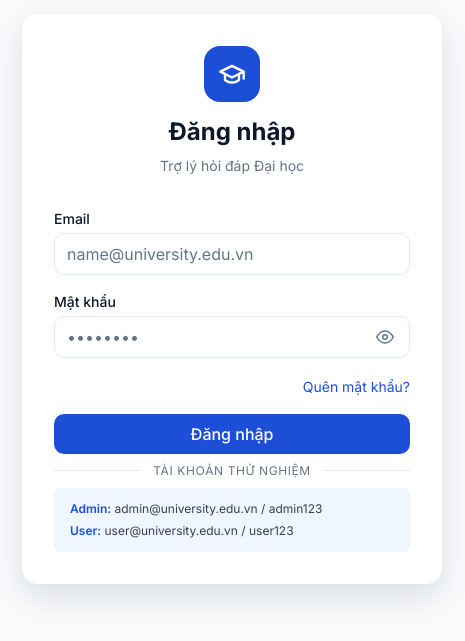
Test case: LoginForm › hiện message rõ ràng khi sai thông tin đăng nhập
In the field labelled "Email": (232, 254) left=54, top=233, right=410, bottom=275, type "a@university.edu.vn"
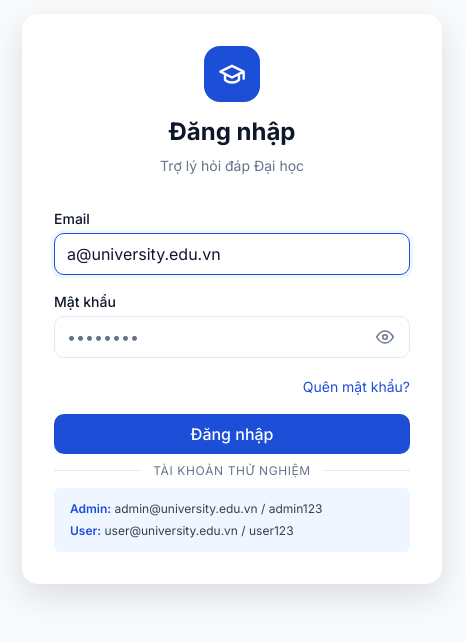
In the password field labelled "Mật khẩu": (232, 337) left=54, top=316, right=410, bottom=358, type "saimatkhau"
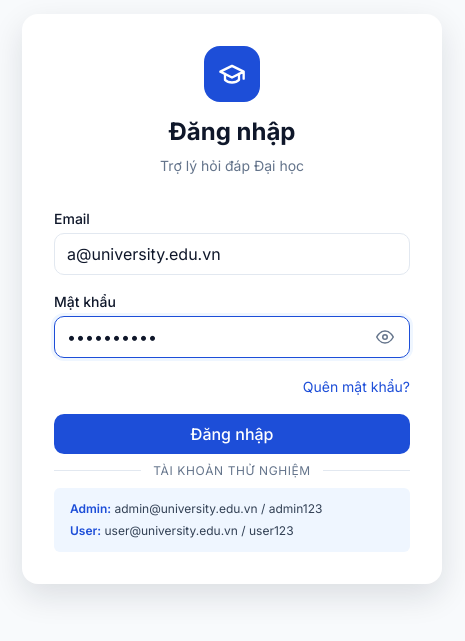
Click the button "Đăng nhập": (232, 434) left=54, top=414, right=410, bottom=454
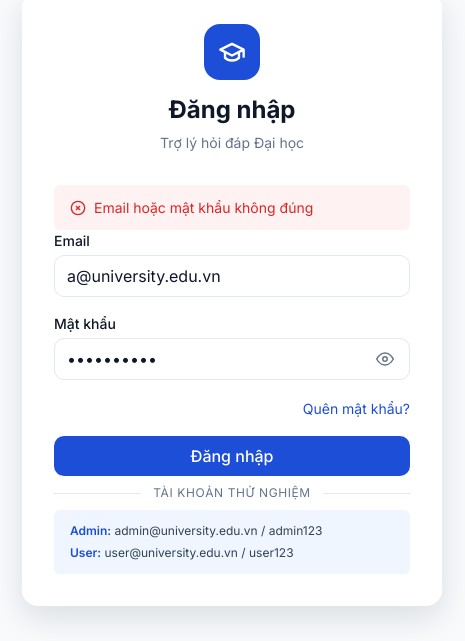
Expected: the message reads "Email hoặc mật khẩu không đúng", left=94, top=199, right=313, bottom=216
